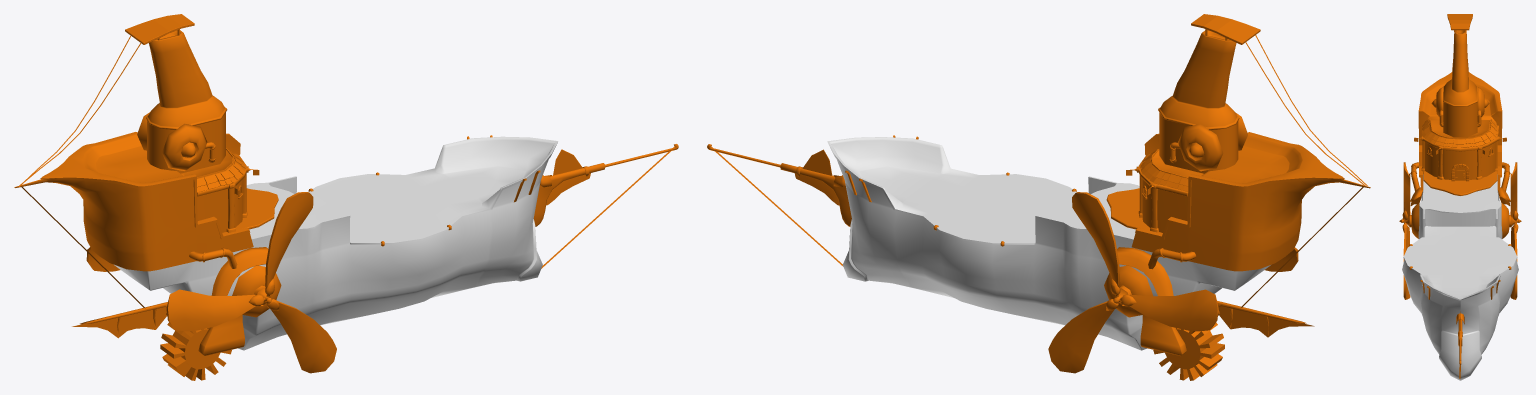
The model's file is BoatExport.fbx.
The picture shows the model from 3 angles, left to right: view 1: azimuth 30°, elevation 25°; view 2: azimuth 150°, elevation 25°; view 3: azimuth 270°, elevation 25°; orthographic projection. The views are drawn at different scales.
Visible parts, largest first — view 1: Plane.002, Plane.020, Cylinder.012, Plane.011, Cube.006, Plane.001, Cylinder.014, Plane.010, Plane.003, Cylinder.011; view 2: Plane.002, Plane.020, Cylinder.012, Plane.011, Cube.006, Plane.001, Cylinder.014, Plane.010, Plane.003, Cylinder.011; view 3: Plane.002, Plane.020, Plane.011, Cylinder.012, Plane.003, Cylinder.011, Cylinder.014, Torus, Plane.001, Plane.019.
Part boxes in pixels (x1,y1,x2,y2): Plane.002: (114, 136, 558, 350); Plane.020: (14, 132, 253, 271); Cylinder.012: (86, 133, 336, 373); Plane.011: (125, 14, 227, 173); Cube.006: (160, 315, 244, 380); Plane.001: (18, 35, 678, 308); Cylinder.014: (137, 112, 215, 170); Plane.010: (72, 302, 167, 338); Plane.003: (197, 150, 259, 232); Cylinder.011: (223, 188, 278, 232); Plane.002: (827, 137, 1270, 350); Plane.020: (1131, 132, 1370, 271); Cylinder.012: (1048, 133, 1298, 373); Plane.011: (1158, 14, 1260, 173); Cube.006: (1140, 315, 1224, 380); Plane.001: (707, 35, 1367, 307); Cylinder.014: (1169, 112, 1247, 171); Plane.010: (1217, 301, 1314, 337); Plane.003: (1126, 150, 1188, 232); Cylinder.011: (1106, 188, 1162, 233); Plane.002: (1402, 174, 1518, 380); Plane.020: (1418, 72, 1502, 190); Plane.011: (1443, 14, 1477, 137); Cylinder.012: (1399, 162, 1521, 299); Plane.003: (1414, 119, 1506, 179); Cylinder.011: (1423, 171, 1497, 195); Cylinder.014: (1431, 87, 1489, 127); Torus: (1451, 164, 1469, 181); Plane.001: (1454, 30, 1462, 378); Plane.019: (1409, 244, 1511, 299).
Bounding box in the file's own units: 40159 × 20766 × 9341.
